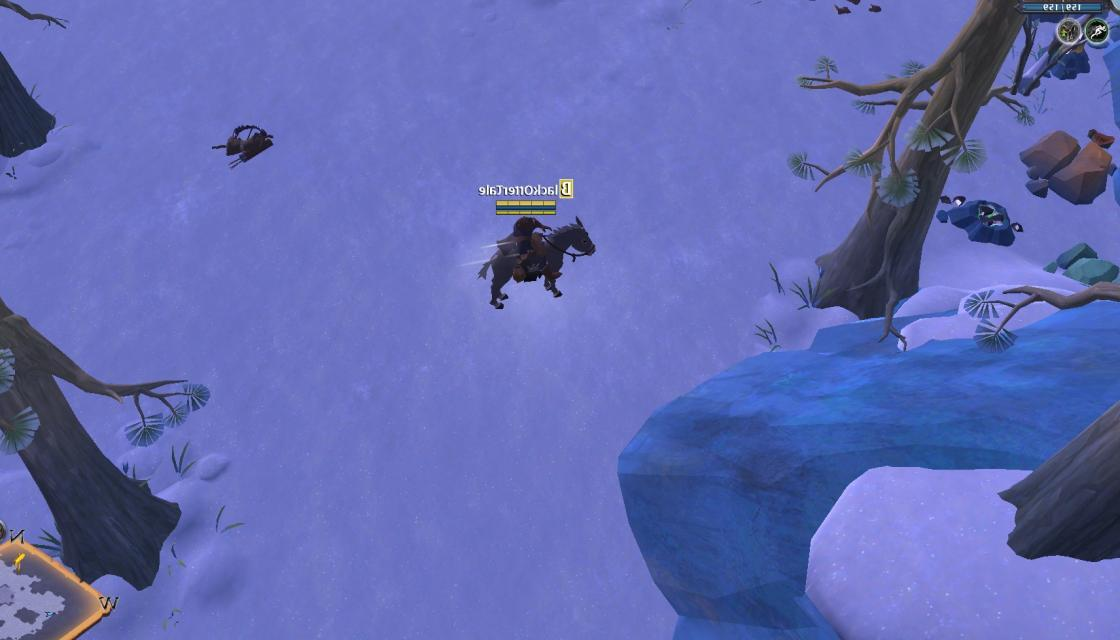copperore: (1027, 26, 1097, 86)
limestone: (1013, 128, 1114, 198)
sandstone: (1044, 242, 1120, 300)
